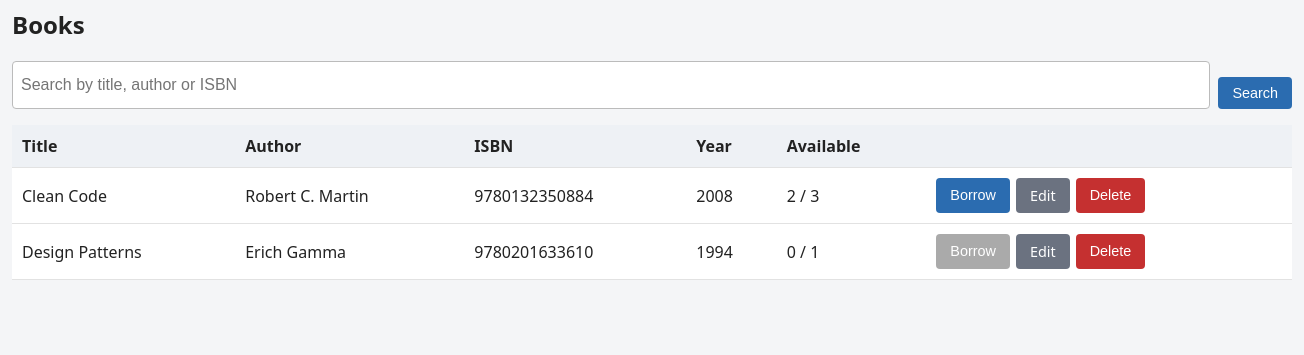
Test: shows the error when delete fails
Click the button "Delete" in the row of "Clean Code".
click(1110, 195)  # box [1076, 178, 1145, 213]
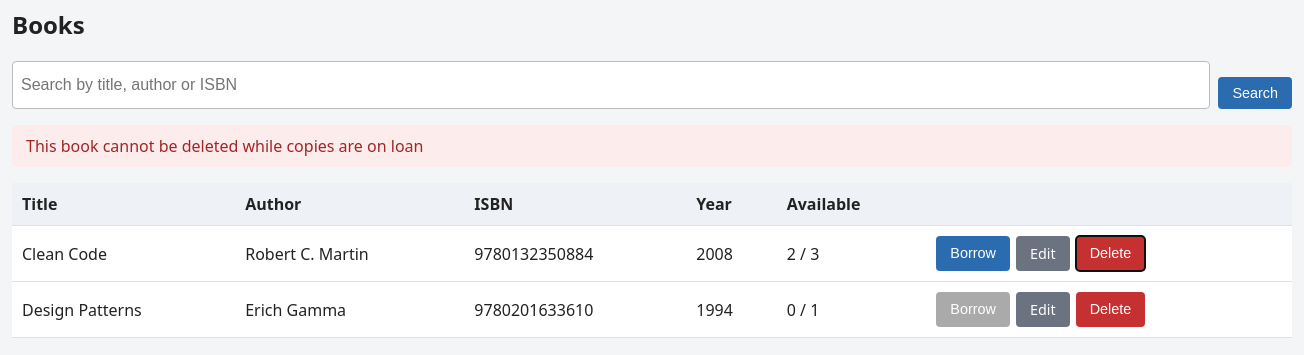
Result: the message shows "cannot be deleted" at [26, 135, 424, 157]
